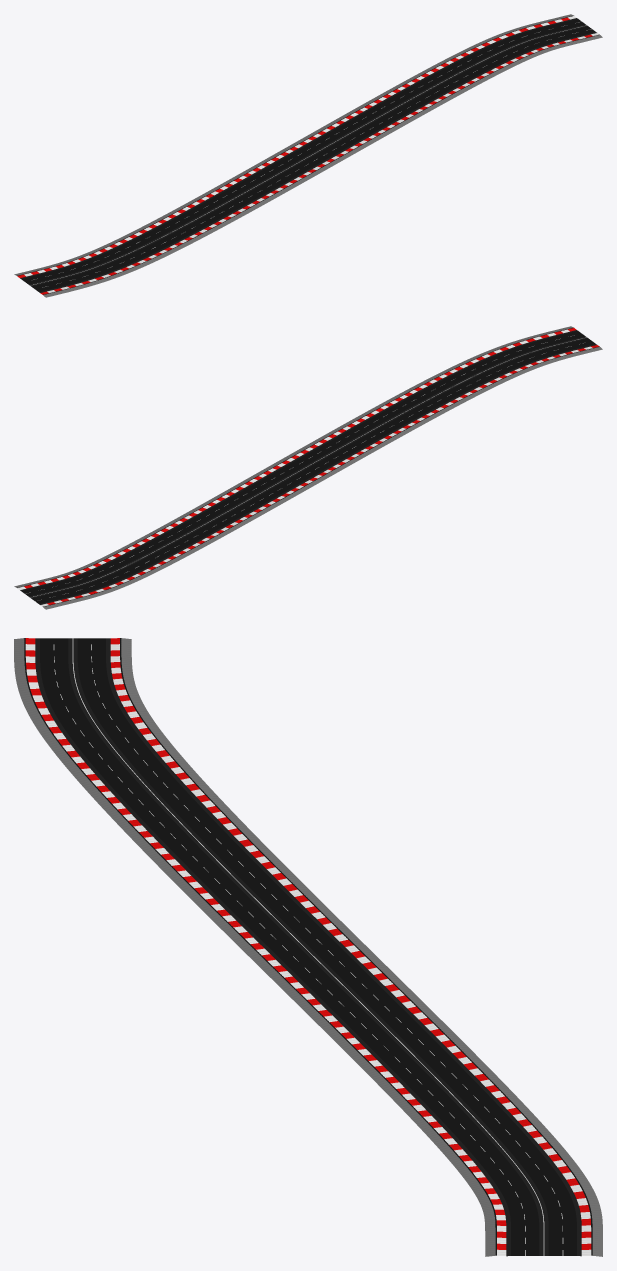
3 views of the same model, one above another, from view 1: azimuth 30°, elevation 25°; view 2: azimuth 210°, elevation 25°; view 3: azimuth 270°, elevation 25° (orthographic). The views are drawn at different scales.
Visible parts, largest first — view 1: Grid.001; view 2: Grid.001; view 3: Grid.001.
Boxes of the visible parts, x1,y1,x2,y2 form: Grid.001: [14, 14, 602, 297]; Grid.001: [14, 326, 602, 609]; Grid.001: [14, 638, 602, 1256].
Bounding box in the file's own units: 310 × 0.31 × 125.
